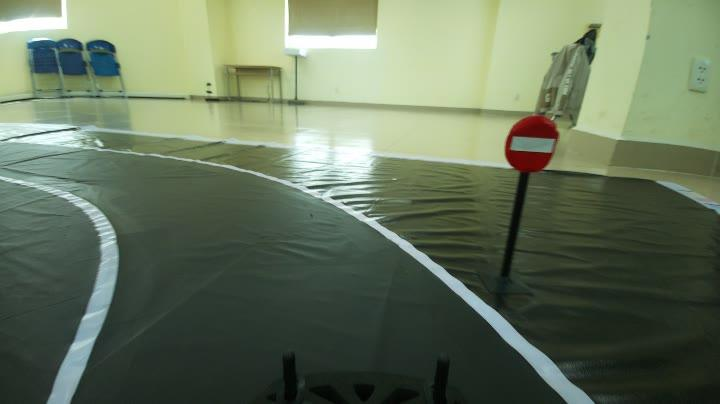no_entry: (499, 111, 562, 181)
